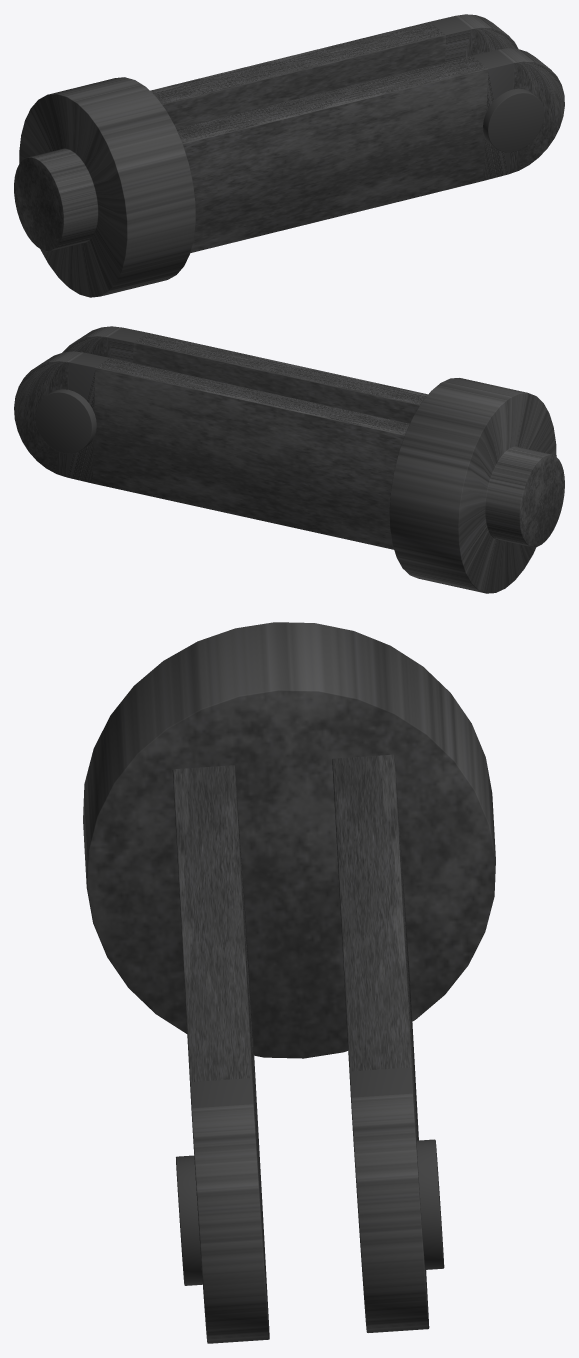
The model's file is Brazo02T.obj.
3 renders of one model, top to bottom at view 1: azimuth 30°, elevation 25°; view 2: azimuth 150°, elevation 25°; view 3: azimuth 270°, elevation 25°, orthographic. The views are drawn at different scales.
Parts seen in each view (by area): view 1: Object_8_llanta; view 2: Object_8_llanta; view 3: Object_8_llanta.
Part boxes in pixels (box(x1,y1,x2,y2)): Object_8_llanta: box(14, 14, 564, 297); Object_8_llanta: box(14, 326, 564, 593); Object_8_llanta: box(83, 622, 495, 1343).
Bounding box in the file's own units: 1.53 × 0.5493 × 0.5519.
